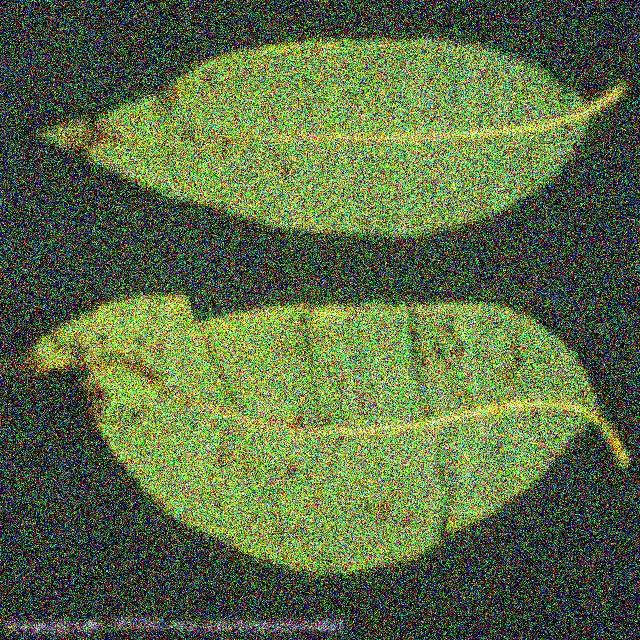shot_hole: (13, 284, 617, 580)
